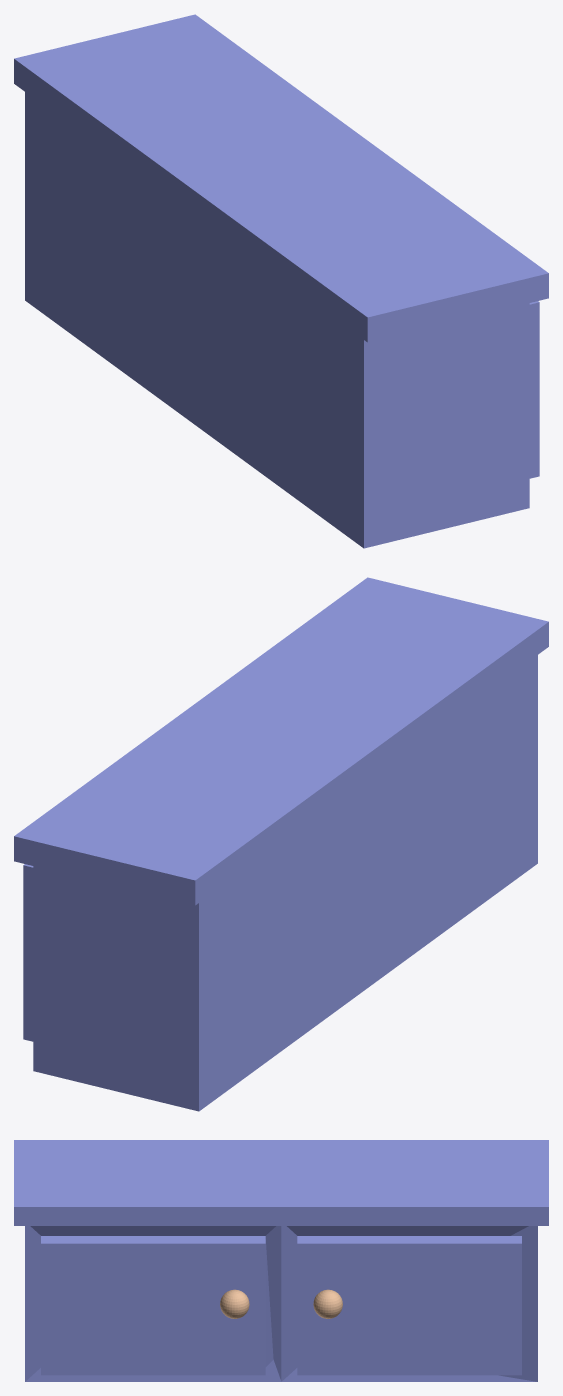
File: closet03.fbx
The picture shows the model from 3 angles, top to bottom: view 1: azimuth 30°, elevation 25°; view 2: azimuth 150°, elevation 25°; view 3: azimuth 270°, elevation 25°; orthographic projection. The views are drawn at different scales.
Parts seen in each view (by area): view 1: Plane.015; view 2: Plane.015; view 3: Plane.015, Sphere.
Boxes of the visible parts, x1,y1,x2,y2 form: Plane.015: (14, 14, 548, 548); Plane.015: (14, 577, 548, 1111); Plane.015: (14, 1140, 548, 1381); Sphere: (220, 1289, 342, 1318).
Bounding box in the file's own units: 220 × 236 × 637.
